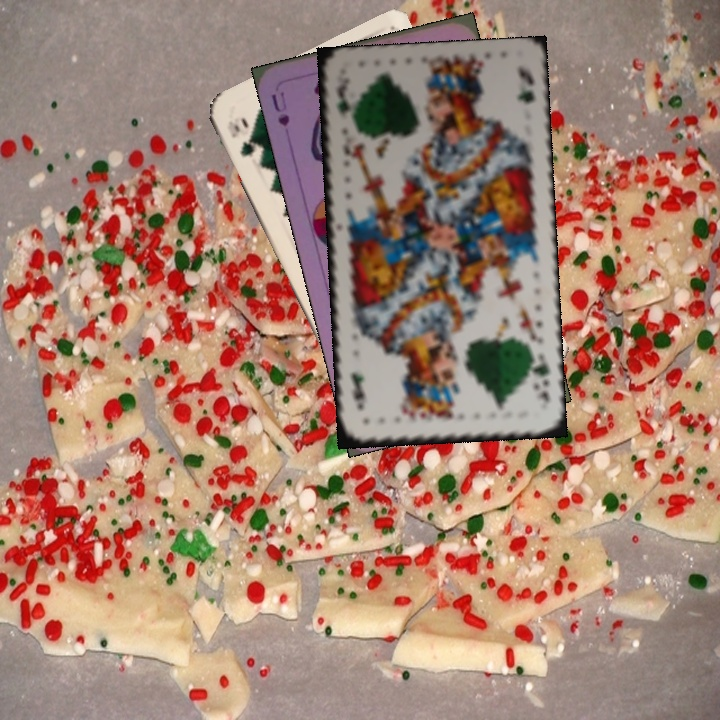G10: (222, 117, 258, 159)
GK: (527, 352, 553, 409), (333, 90, 355, 128)
SU: (267, 87, 292, 129)
